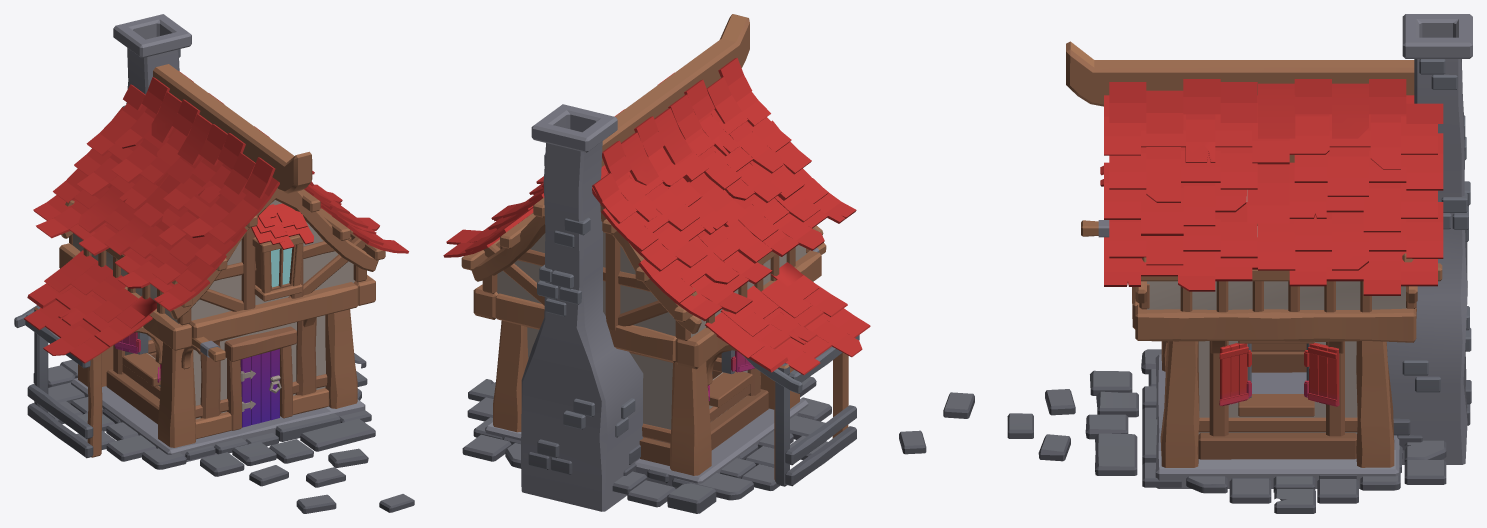
File: maison.fbx
The picture shows the model from 3 angles, left to right: view 1: azimuth 30°, elevation 25°; view 2: azimuth 150°, elevation 25°; view 3: azimuth 270°, elevation 25°; orthographic projection. The views are drawn at different scales.
Visible parts, largest first — view 1: Maison, Porte; view 2: Maison; view 3: Maison.
Part boxes in pixels (bbox=[...]): Maison: bbox=[14, 14, 414, 513]; Porte: bbox=[240, 349, 281, 427]; Maison: bbox=[443, 14, 870, 513]; Maison: bbox=[899, 14, 1472, 513].
Bounding box in the file's own units: 569 × 560 × 704.
